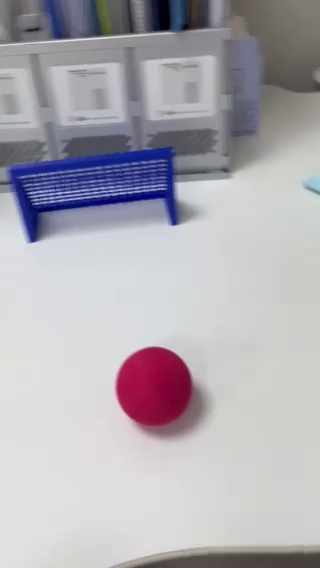goal: (10, 151, 184, 240)
redball: (116, 348, 191, 429)
